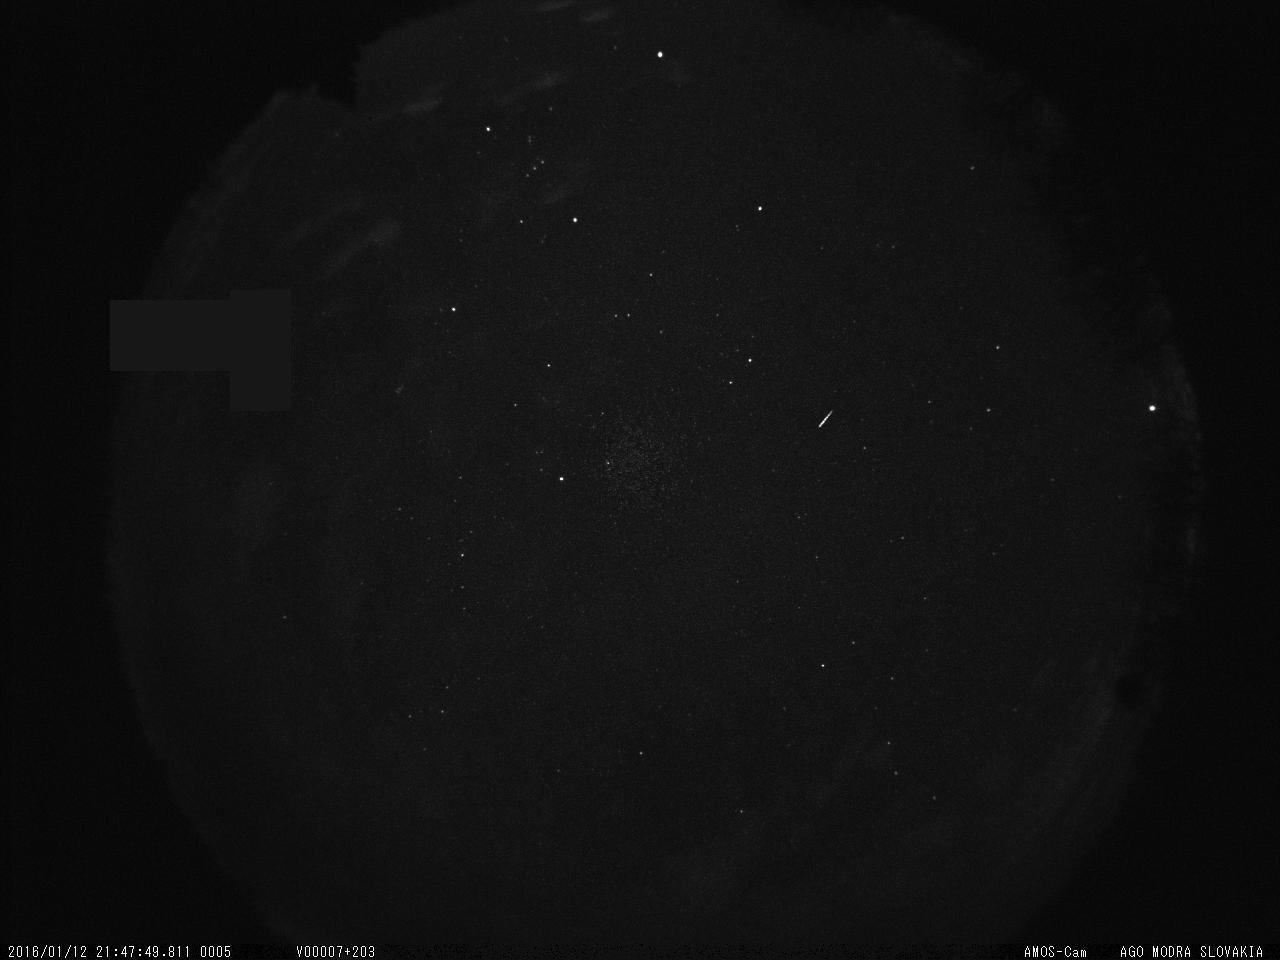meteor: (810, 407, 836, 435)
